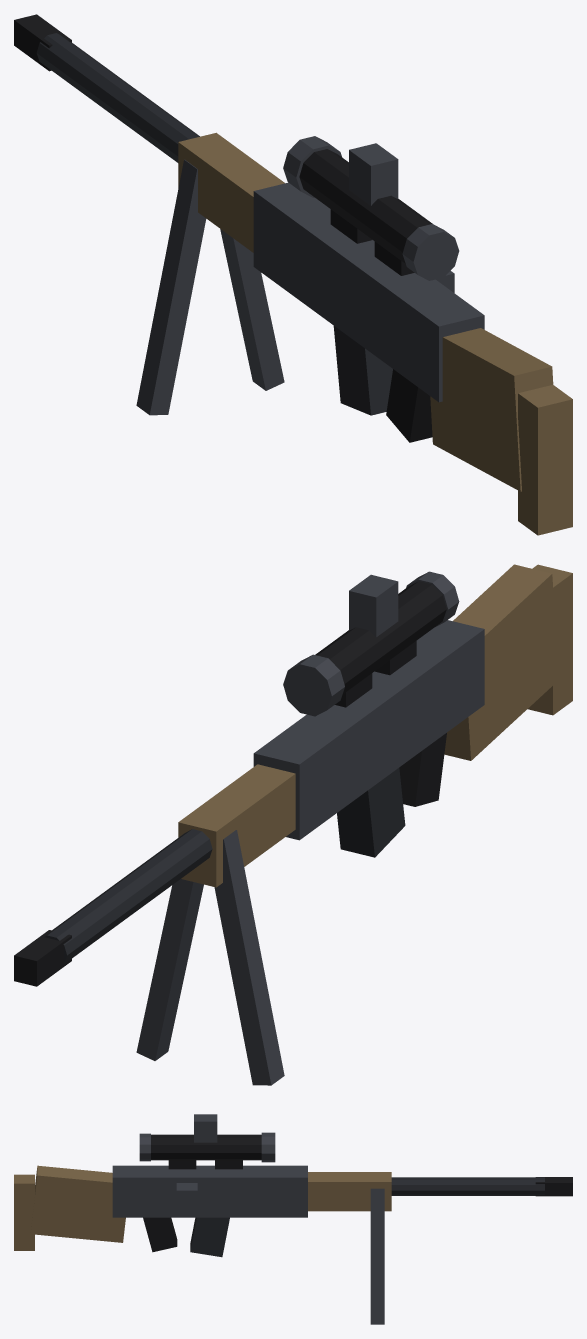
The model's file is wep_sniper.glb.
3 renders of one model, top to bottom at view 1: azimuth 30°, elevation 25°; view 2: azimuth 150°, elevation 25°; view 3: azimuth 270°, elevation 25°, orthographic. The views are drawn at different scales.
Parts seen in each view (by area): view 1: wep_sniper; view 2: wep_sniper; view 3: wep_sniper.
Boxes of the visible parts, bbox=[...] form: wep_sniper: bbox=[14, 14, 572, 535]; wep_sniper: bbox=[14, 564, 572, 1085]; wep_sniper: bbox=[14, 1114, 572, 1324].
Bounding box in the file's own units: 0.1768 × 0.4543 × 1.2.
